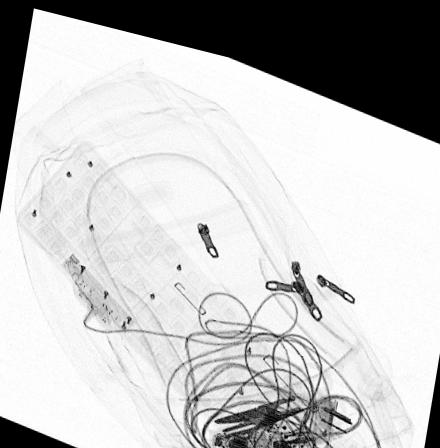Scissors: (210, 343, 347, 424)
